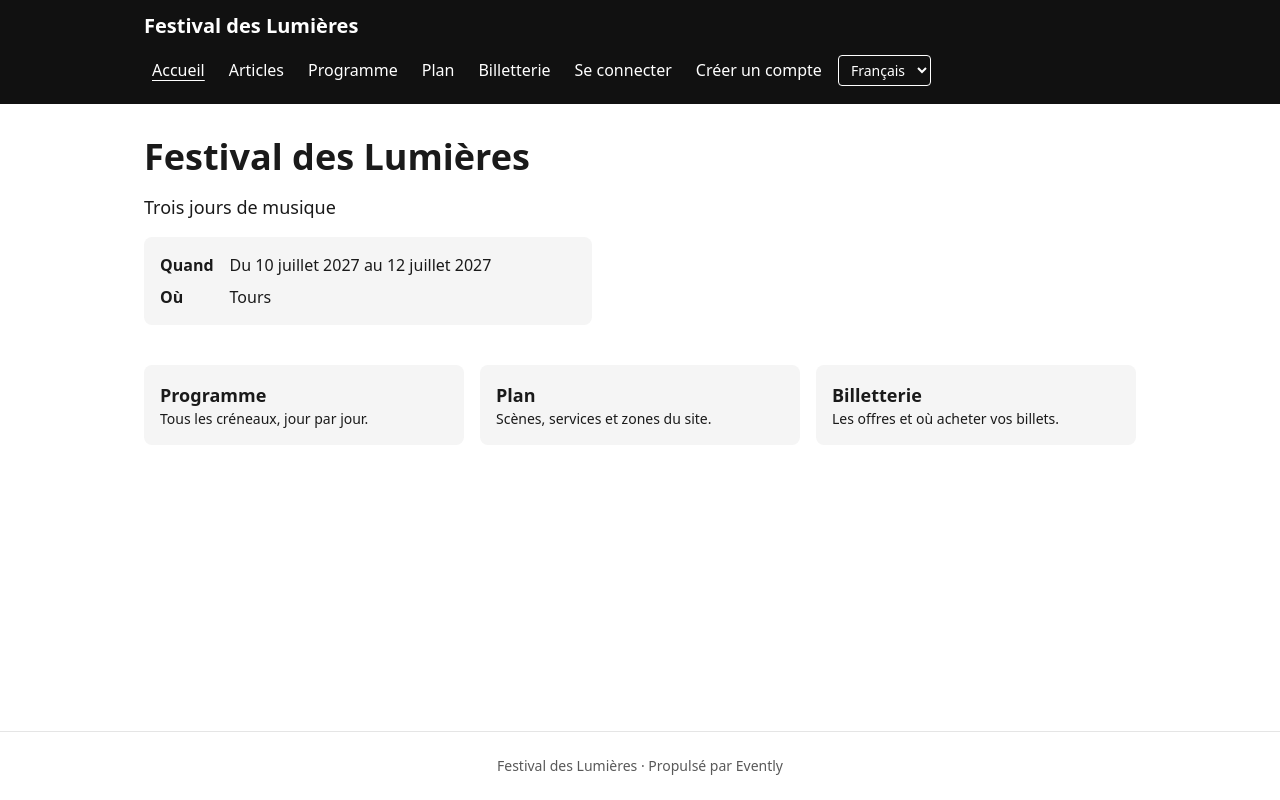
Test case: routes › switches the interface to English
Select "English" in the dropdown named "Langue" at (884, 70), box [838,54,931,86]
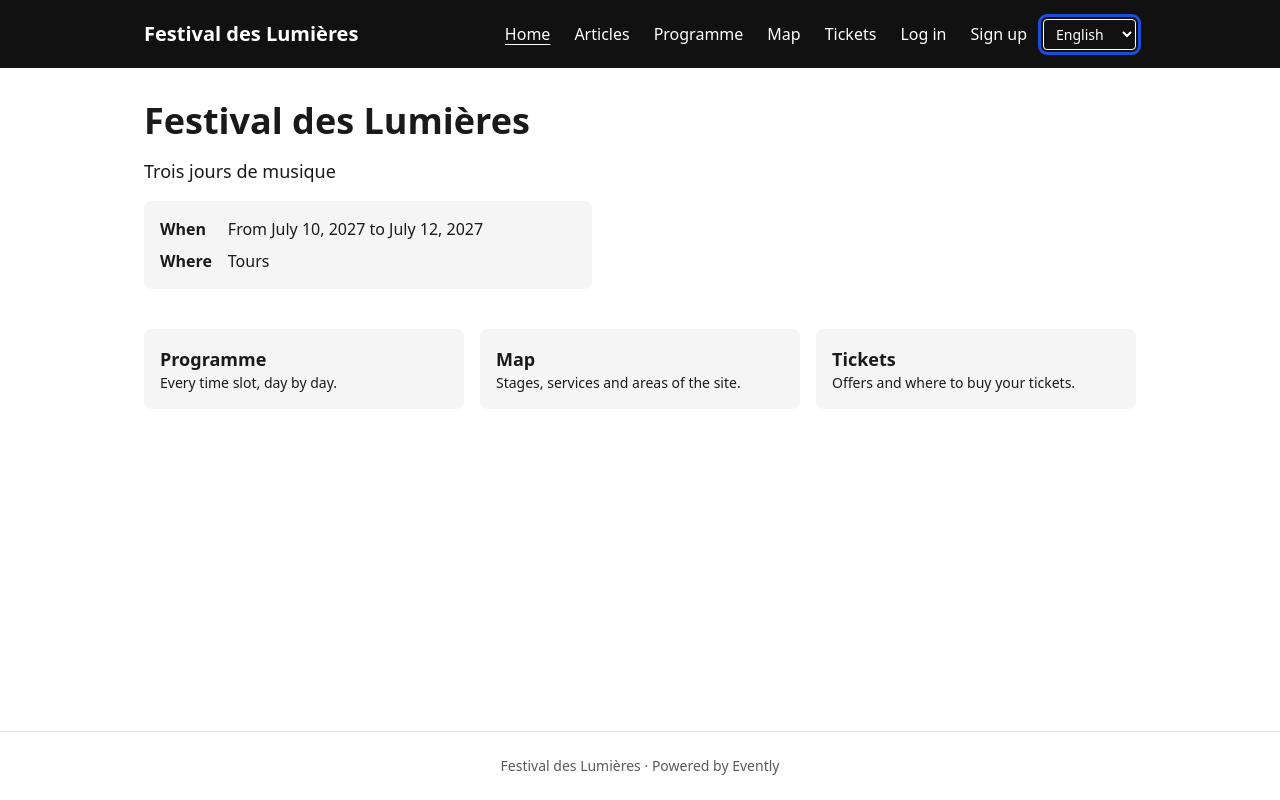
Expected: the text "From July 10, 2027 to July 12, 2027" is shown, [228,218,483,240]
